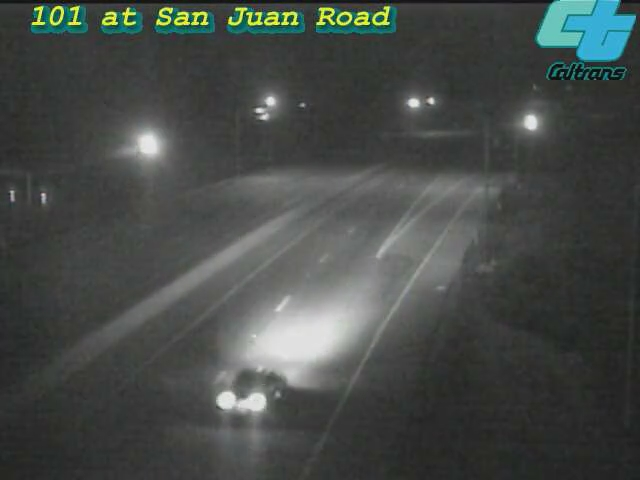vehicle: (190, 345, 300, 455), (506, 97, 556, 147)
